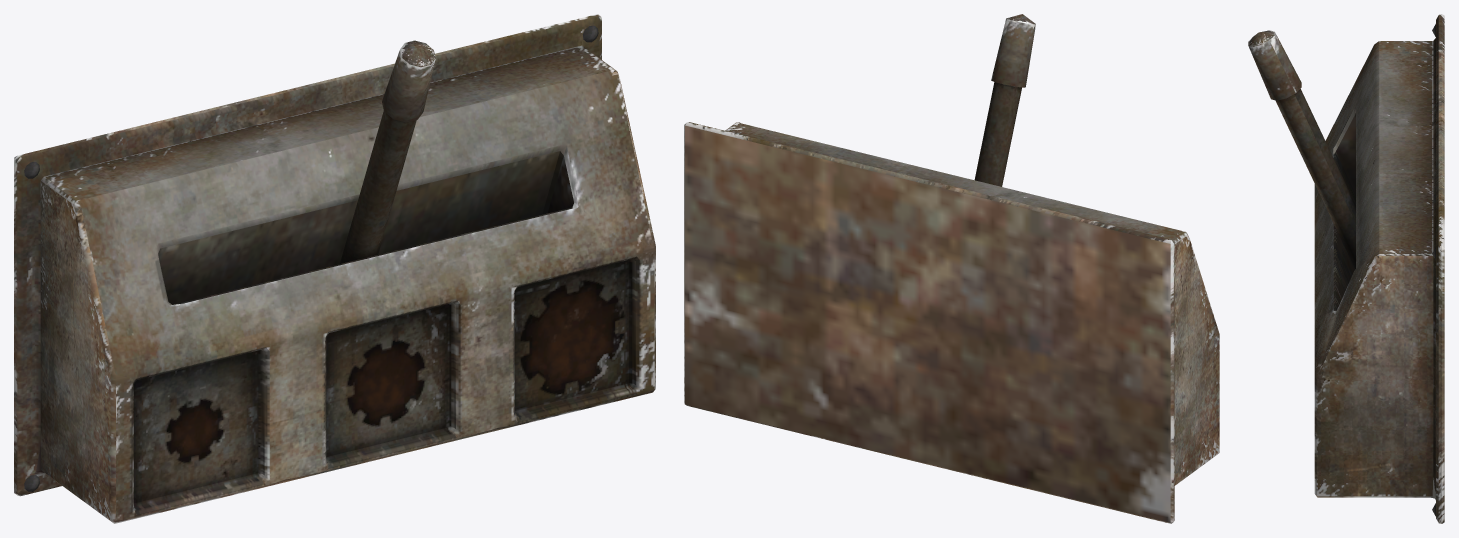
The model's file is water_wheel_cog_panel.dae.
3 views of the same model, side by side, from view 1: azimuth 30°, elevation 25°; view 2: azimuth 150°, elevation 25°; view 3: azimuth 270°, elevation 25° (orthographic). The views are drawn at different scales.
Parts seen in each view (by area): view 1: box, lever1; view 2: box, lever1; view 3: box, lever1.
Boxes of the visible parts, box(x1,y1,x2,y2) form: box: box(14, 14, 655, 523); lever1: box(340, 40, 435, 263); box: box(684, 122, 1219, 523); lever1: box(974, 14, 1035, 186); box: box(1314, 14, 1444, 523); lever1: box(1248, 30, 1355, 268).
Size of the model in its own units: 0.997 by 0.7449 by 0.353.
